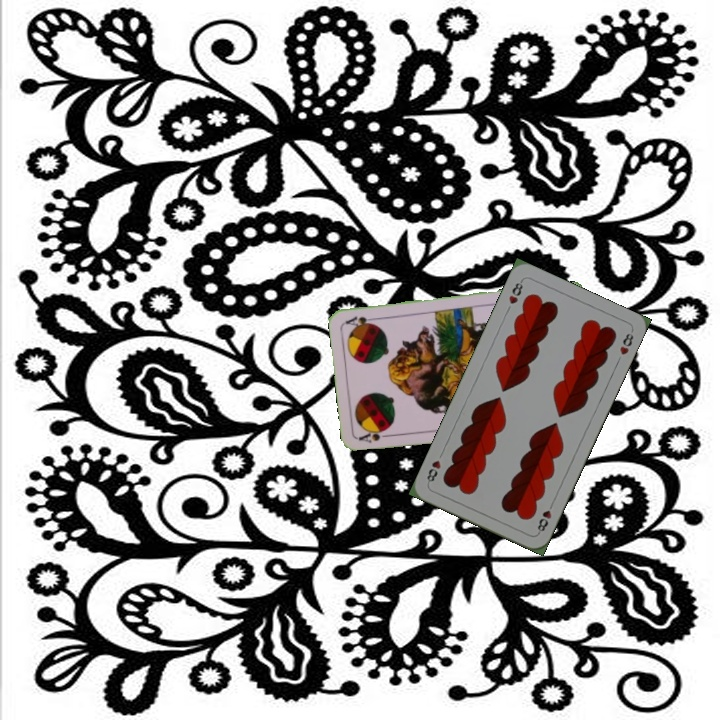H8: (533, 498, 556, 536), (505, 276, 526, 307)
SA: (355, 426, 396, 445)
